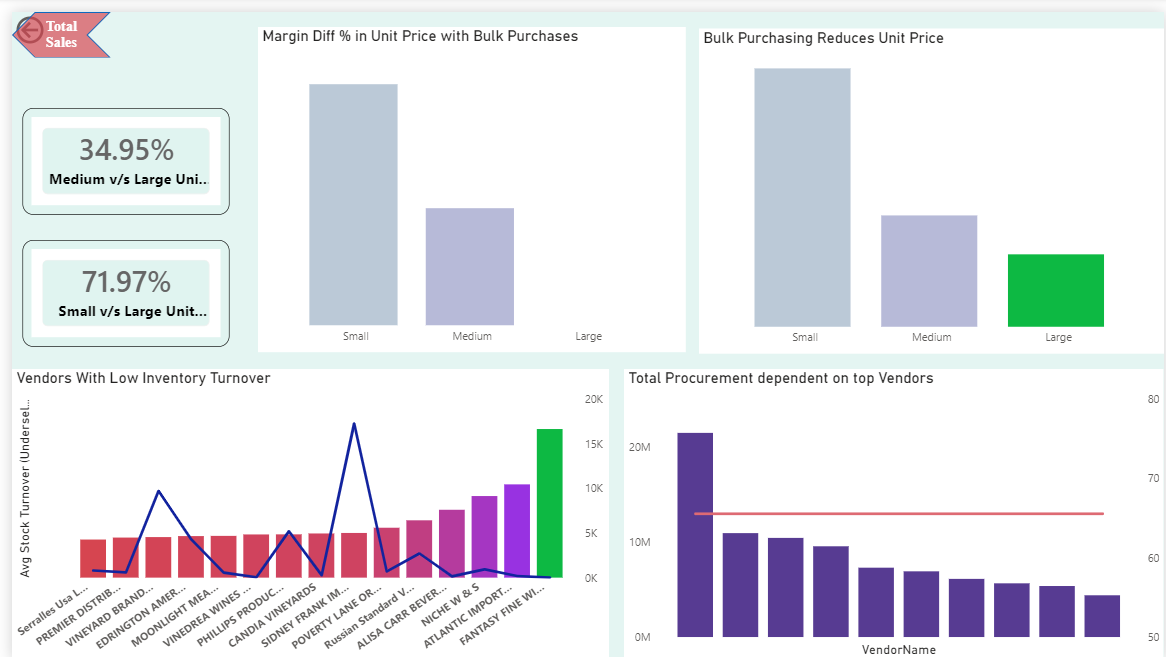

This screenshot's page, from the dashboard's own definition file:
{"tool":"powerbi","page":{"name":"Vendor Sales Patterns","canvas":[1280,720],"ordinal":1},"visuals":[{"type":"actionButton","box":[0,0,100,40],"z":0},{"type":"lineClusteredColumnComboChart","title":"Total Procurement dependent on top Vendors","fields":{"Category":["vendor_sales_summary_copy.VendorName"],"Y":["Sum(vendor_sales_summary_copy.TotalPurchasedDollars)"],"Y2":["vendor_sales_summary_copy.Top10Cumulative Contribution %"]},"box":[679.2,396.1,599.7,324.5],"z":1000},{"type":"clusteredColumnChart","title":"Bulk Purchasing Reduces Unit Price","fields":{"Y":["vendor_sales_summary_copy.Avg Unit Price by Order Size"],"Category":["vendor_sales_summary_copy.Order Size"]},"box":[763,19.1,516.9,361.1],"z":2000},{"type":"lineClusteredColumnComboChart","title":"Vendors With Low Inventory Turnover","fields":{"Y":["vendor_sales_summary_copy.Avg Stock Turnover (Underselling)"],"Category":["vendor_sales_summary_copy.VendorName"],"Y2":["Sum(vendor_sales_summary_copy.TotalSalesQuantity)"]},"box":[0,396.1,663.3,324.5],"z":3000},{"type":"cardVisual","fields":{"Data":["vendor_sales_summary_copy.AvgUnitPriceMarginMedium%"]},"box":[11.7,106.7,230,118.3],"z":4000},{"type":"lineClusteredColumnComboChart","title":"Margin Diff % in Unit Price with Bulk Purchases","fields":{"Y":["vendor_sales_summary_copy.Margin Diff vs Large %"],"Category":["OrderSizeBuckets.OrderSize"]},"box":[273.6,17.5,475.6,361.1],"z":5000},{"type":"cardVisual","fields":{"Data":["vendor_sales_summary_copy.AvgUnitPriceMarginSmall%"]},"box":[11.7,253.3,230,118.3],"z":6000},{"type":"shape","box":[0,0,109.8,50.9],"z":7000}]}

Visuals, with their boxes in screenshot pixels (x1, y1, x2, y2), scaled from the page's 1280x720 canvas onto the 1166x657 screenshot:
actionButton: 0:0:91:36
"Total Procurement dependent on top Vendors" lineClusteredColumnComboChart: 619:361:1165:656
"Bulk Purchasing Reduces Unit Price" clusteredColumnChart: 695:17:1165:347
"Vendors With Low Inventory Turnover" lineClusteredColumnComboChart: 0:361:604:656
cardVisual - vendor_sales_summary_copy.AvgUnitPriceMarginMedium%: 11:97:220:205
"Margin Diff % in Unit Price with Bulk Purchases" lineClusteredColumnComboChart: 249:16:682:345
cardVisual - vendor_sales_summary_copy.AvgUnitPriceMarginSmall%: 11:231:220:339
shape: 0:0:100:46
